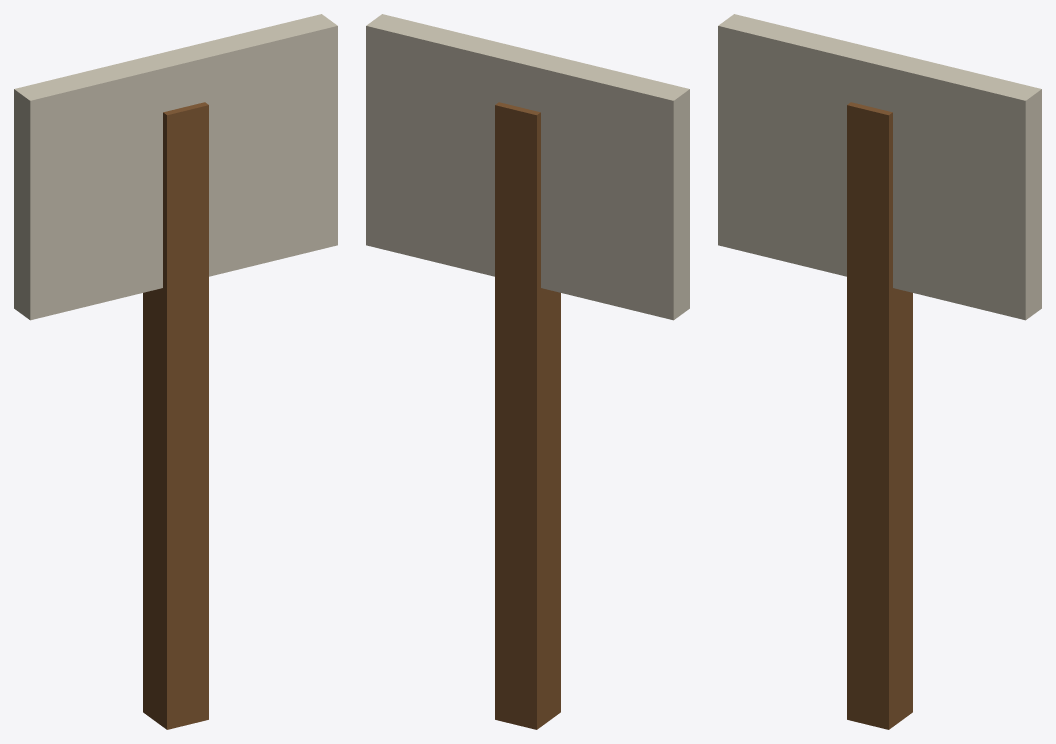
Rendered from sign.glb.
3 renders of one model, left to right at view 1: azimuth 30°, elevation 25°; view 2: azimuth 150°, elevation 25°; view 3: azimuth 330°, elevation 25°, orthographic.
Visible parts, largest first — view 1: sign; view 2: sign; view 3: sign.
Boxes of the visible parts, x1,y1,x2,y2 form: sign: (14, 14, 337, 729); sign: (366, 14, 689, 729); sign: (718, 14, 1041, 729).
Size of the model in its own units: 0.22 by 0.45 by 0.03.
